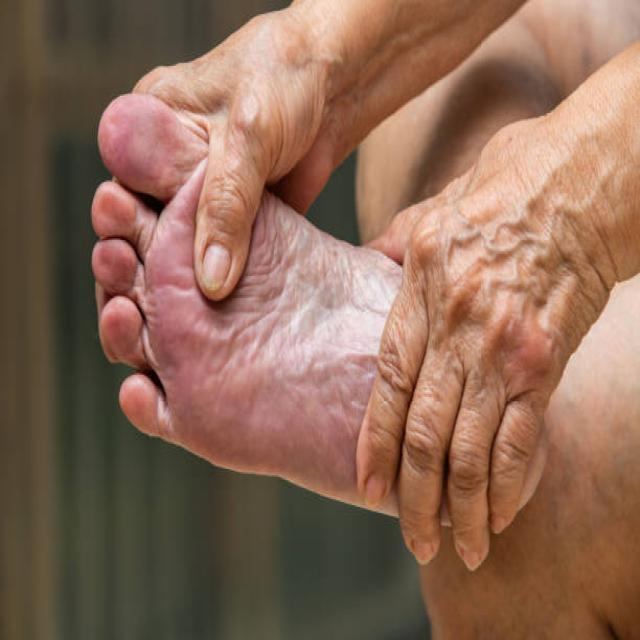Dry-Skin: (168, 193, 354, 405), (440, 185, 588, 359)
